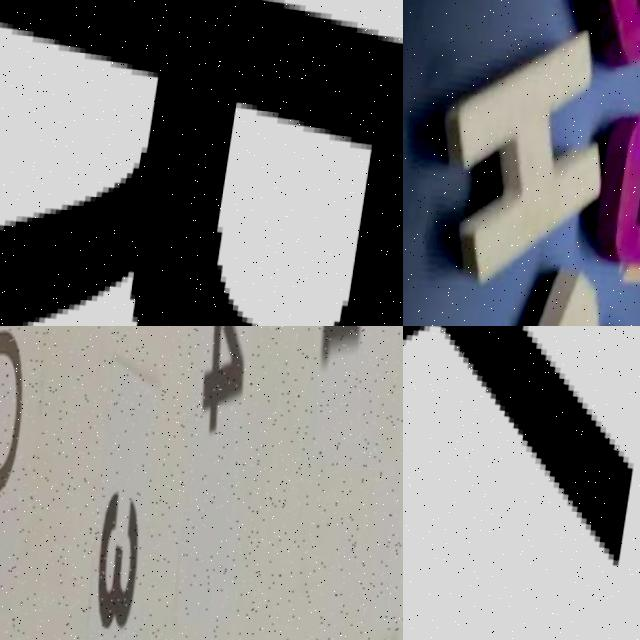0: (0, 326, 57, 520)
1: (302, 326, 384, 394)
3: (83, 470, 168, 640)
4: (183, 326, 274, 474)
H: (428, 10, 627, 283)
K: (403, 326, 640, 578)
R: (0, 0, 403, 326)
S: (588, 97, 640, 274)
Z: (493, 265, 640, 326)
